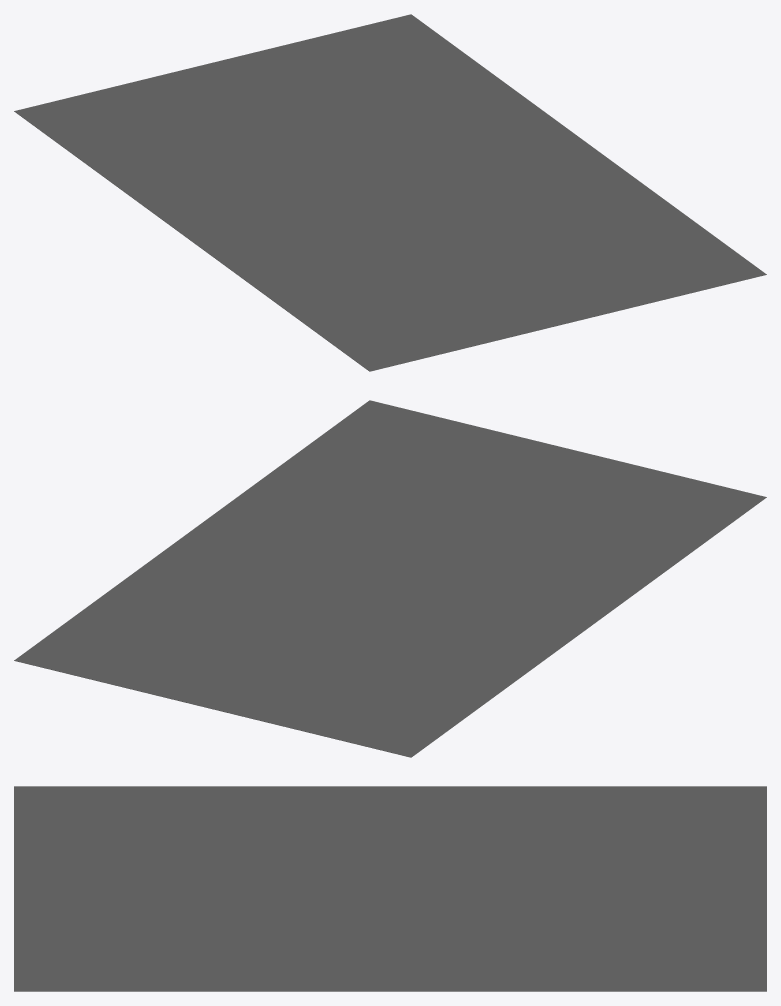
File: Aspal.fbx
3 views of the same model, one above another, from view 1: azimuth 30°, elevation 25°; view 2: azimuth 150°, elevation 25°; view 3: azimuth 270°, elevation 25° (orthographic). The views are drawn at different scales.
Visible parts, largest first — view 1: LandingTrack1Straight.002; view 2: LandingTrack1Straight.002; view 3: LandingTrack1Straight.002.
Part boxes in pixels (x1,y1,x2,y2): LandingTrack1Straight.002: [14, 14, 766, 371]; LandingTrack1Straight.002: [14, 400, 766, 757]; LandingTrack1Straight.002: [14, 786, 766, 991].
Size of the model in its own units: 1269 by 0.7007 by 1968.
Materials: 1 (1 with a texture image).
